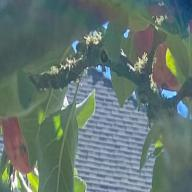Apples: (3, 116, 34, 174), (154, 39, 188, 91), (134, 23, 153, 59)
